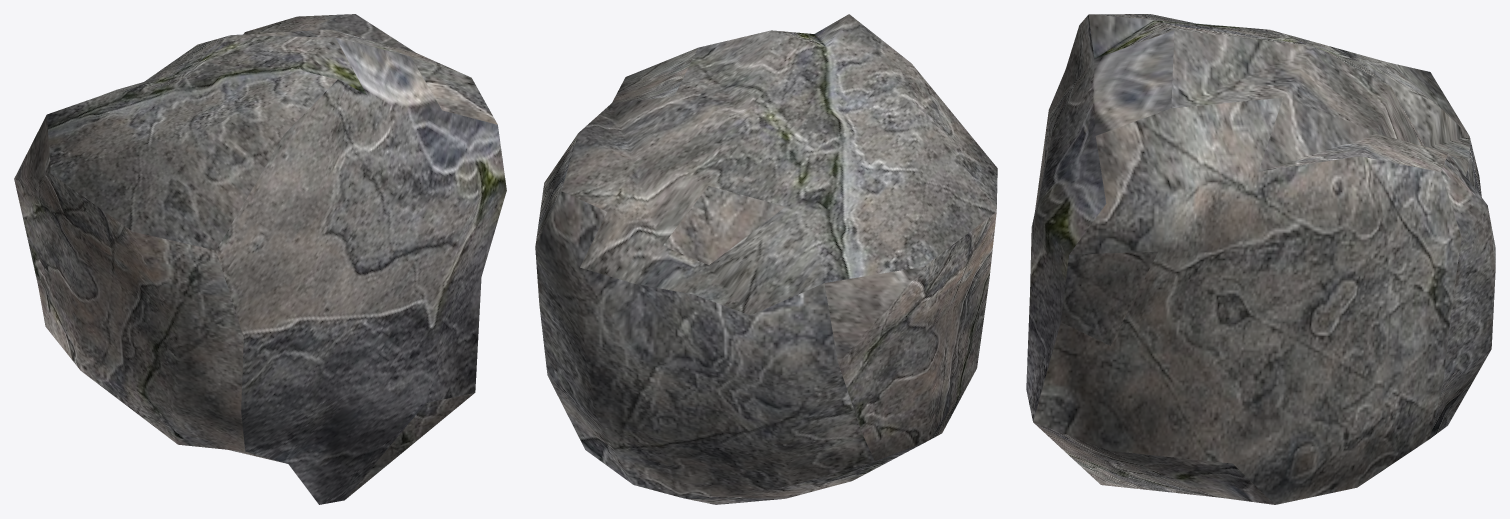
The model's file is rock.obj.
3 renders of one model, left to right at view 1: azimuth 30°, elevation 25°; view 2: azimuth 150°, elevation 25°; view 3: azimuth 270°, elevation 25°, orthographic. The views are drawn at different scales.
Visible parts, largest first — view 1: Cube_Cube.001; view 2: Cube_Cube.001; view 3: Cube_Cube.001.
Boxes of the visible parts, x1,y1,x2,y2 form: Cube_Cube.001: (14, 14, 506, 504); Cube_Cube.001: (535, 14, 997, 504); Cube_Cube.001: (1026, 14, 1495, 504).
Bounding box in the file's own units: 1.27 × 1.45 × 1.32.
Materials: 1 (1 with a texture image).
